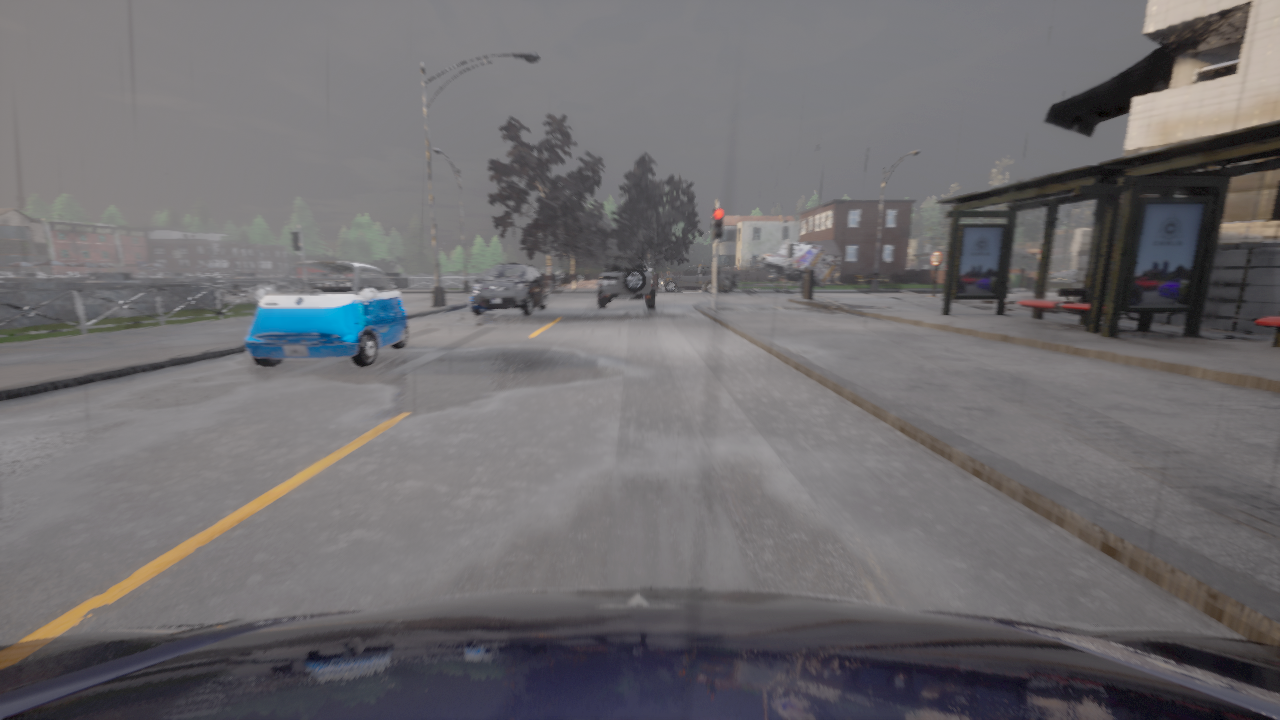cyclist: (0, 588, 1279, 719), (245, 261, 408, 367), (756, 241, 839, 288), (471, 263, 547, 314), (598, 254, 655, 308), (661, 263, 740, 294)
